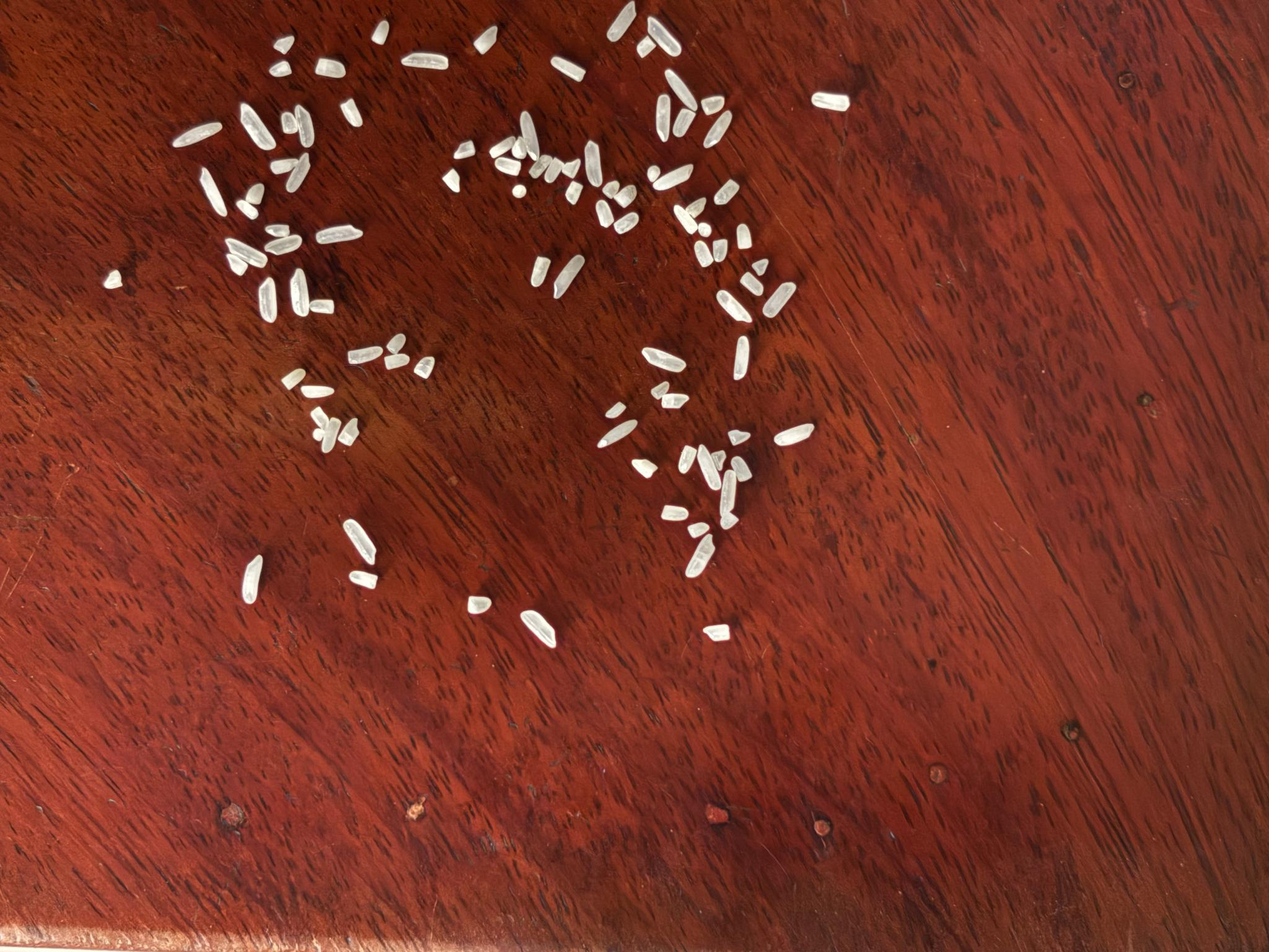Rice-th-y-nh: (550, 252, 587, 302), (239, 102, 276, 151), (342, 517, 378, 566), (683, 532, 718, 580), (597, 413, 638, 453), (653, 158, 695, 197), (644, 15, 682, 58), (520, 607, 558, 650), (691, 444, 725, 492), (663, 68, 699, 112), (648, 93, 679, 143), (761, 278, 797, 321), (515, 111, 546, 160), (715, 288, 754, 326), (774, 417, 815, 453), (701, 108, 735, 151), (640, 345, 687, 376), (578, 140, 608, 187), (199, 168, 227, 217), (727, 335, 756, 381), (607, 0, 638, 43), (714, 469, 742, 516), (226, 238, 268, 268), (172, 122, 222, 147), (316, 222, 363, 247), (240, 555, 264, 603), (810, 88, 851, 116), (286, 152, 312, 193), (402, 49, 449, 71), (289, 267, 310, 316), (551, 55, 586, 83), (670, 106, 698, 140), (672, 202, 699, 235), (528, 254, 554, 288), (258, 278, 277, 322), (295, 105, 314, 148), (265, 234, 302, 256), (612, 209, 640, 238), (713, 177, 740, 207), (591, 198, 617, 229), (320, 417, 342, 453), (675, 443, 699, 475), (739, 270, 766, 298), (612, 182, 639, 210), (488, 134, 517, 160), (473, 25, 498, 55), (691, 239, 716, 269), (314, 57, 347, 79), (542, 155, 566, 185), (700, 91, 726, 118), (528, 152, 553, 180), (660, 501, 689, 525), (347, 346, 383, 365), (466, 592, 493, 617), (732, 223, 755, 252), (341, 98, 364, 127), (660, 390, 690, 412), (730, 455, 753, 483), (494, 155, 522, 178), (630, 457, 659, 479), (348, 569, 378, 590), (709, 236, 731, 264), (338, 418, 359, 446), (703, 622, 731, 643), (684, 195, 708, 219), (564, 179, 585, 206), (718, 508, 741, 532), (726, 427, 752, 448), (225, 253, 248, 276), (282, 368, 306, 390), (453, 139, 477, 161), (509, 135, 530, 160), (561, 157, 583, 180), (708, 448, 729, 472), (441, 168, 461, 193), (414, 356, 435, 379), (750, 255, 771, 278), (687, 520, 711, 540), (269, 158, 299, 174), (636, 35, 656, 59), (371, 20, 390, 45), (301, 385, 334, 399), (601, 178, 621, 201), (383, 353, 410, 370), (386, 333, 406, 355), (236, 200, 259, 219), (310, 407, 329, 429), (245, 183, 264, 205), (604, 401, 627, 419), (269, 60, 292, 78), (310, 298, 335, 314), (274, 35, 295, 54), (650, 381, 671, 400), (280, 112, 298, 134), (265, 223, 291, 238), (645, 162, 662, 183), (103, 270, 122, 288), (696, 221, 713, 238), (511, 183, 528, 199), (312, 427, 325, 441)
